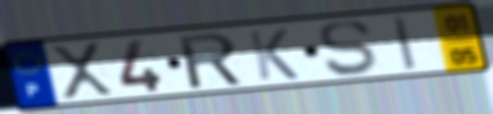4: (117, 37, 165, 94)
I: (390, 13, 419, 72)
K: (245, 26, 302, 82)
R: (174, 30, 247, 91)
S: (315, 18, 378, 79)
X: (46, 40, 118, 102)
